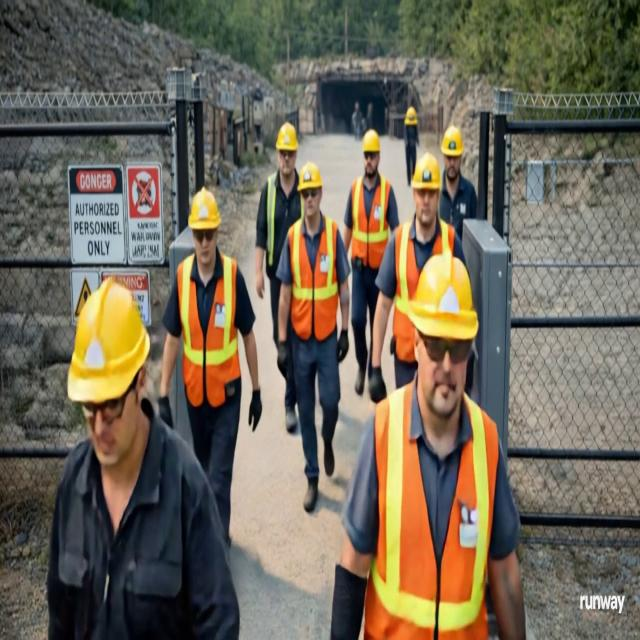Vest: (364, 383, 498, 639), (177, 252, 240, 407), (288, 216, 338, 340), (351, 175, 390, 269), (267, 173, 277, 266), (432, 218, 454, 255)
Worker: (331, 254, 525, 639), (46, 279, 239, 639), (159, 188, 262, 545), (277, 162, 350, 511), (369, 153, 464, 402), (344, 130, 398, 395), (255, 122, 303, 347), (439, 126, 476, 239)
helmet: (68, 278, 149, 403), (408, 252, 478, 340), (188, 188, 220, 230), (412, 152, 440, 190), (298, 162, 322, 191), (441, 126, 463, 156), (276, 122, 297, 151), (363, 129, 380, 152), (404, 106, 417, 125)
